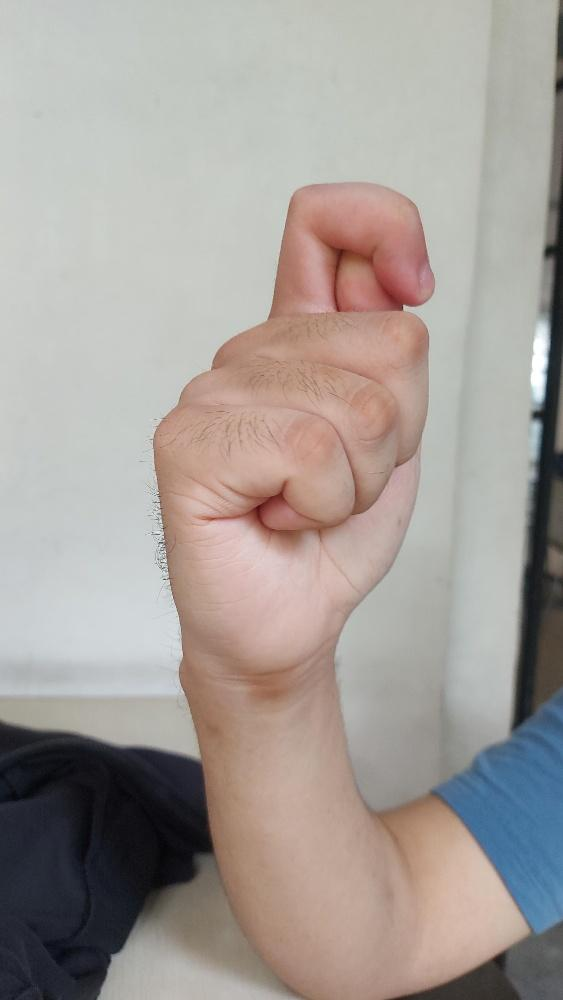t: (151, 180, 436, 674)
